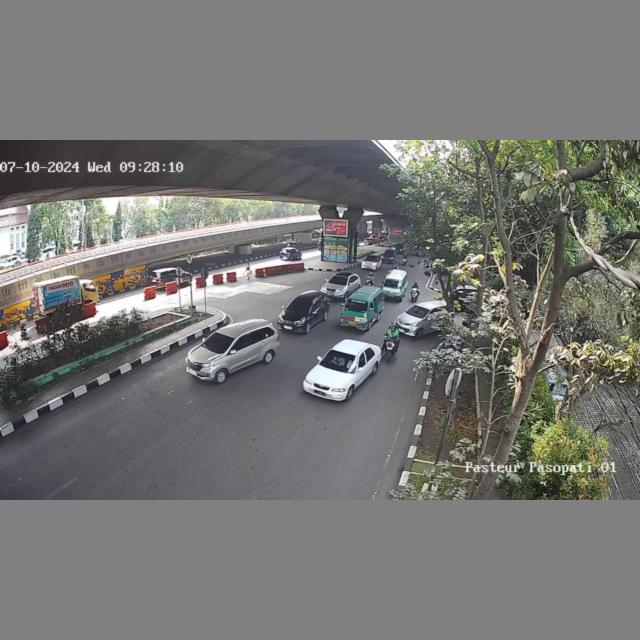windshield: (318, 347, 358, 372), (202, 330, 235, 353), (344, 299, 369, 313), (287, 300, 311, 314), (404, 305, 431, 317), (382, 278, 403, 289), (328, 276, 347, 286)
